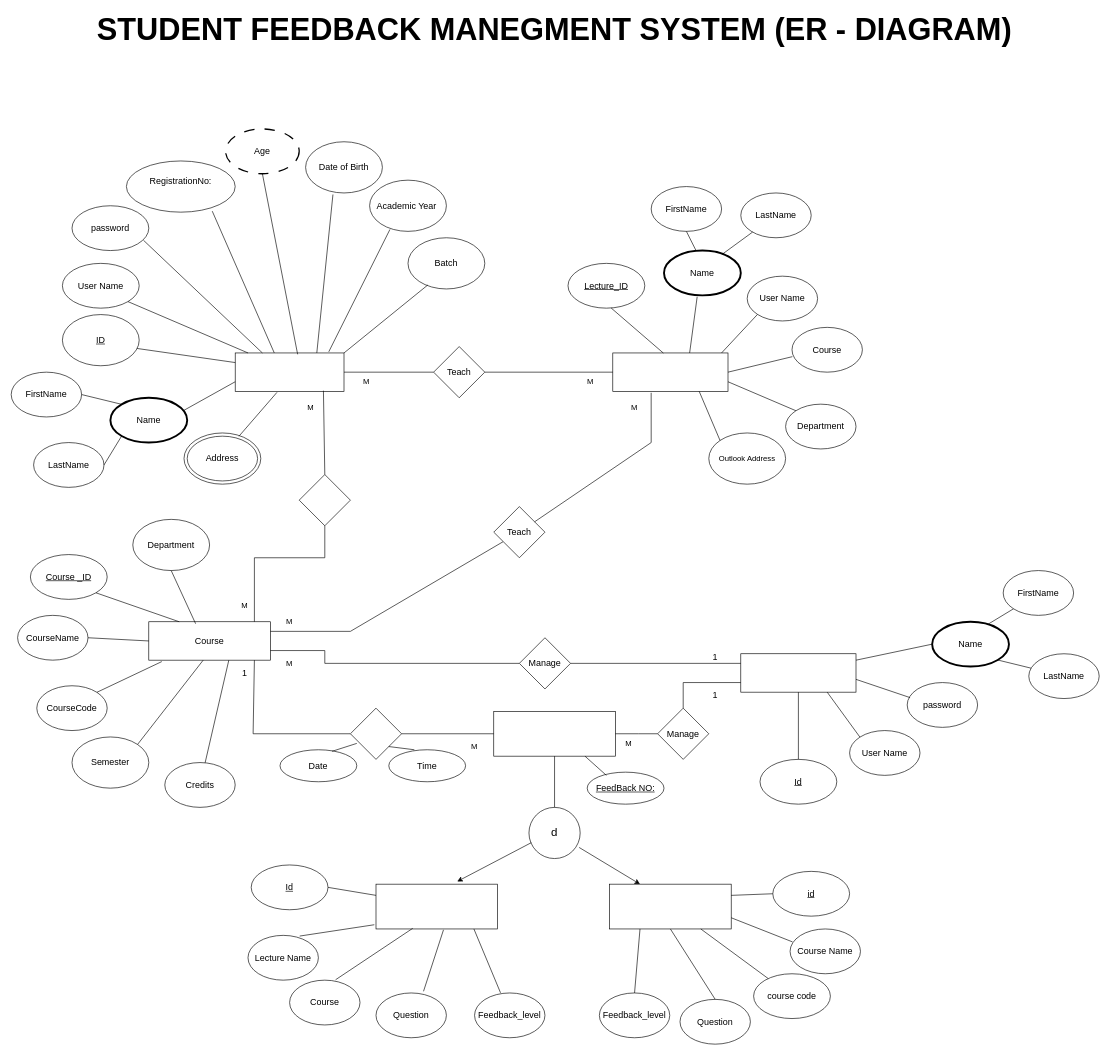
Image size: 1110x1055. Some labels were removed from this diagram. Each missing label, with the centre of its shape:
"Course Feedback" goes at point (670, 906).
"Feed Back" goes at point (554, 733).
"Follow" goes at point (324, 500).
"Give" goes at point (376, 733).
"Lecture" goes at point (670, 371).
"Lecture Feedback" goes at point (436, 906).
"Management Assistant" goes at point (798, 672).
"student" goes at point (289, 371).
